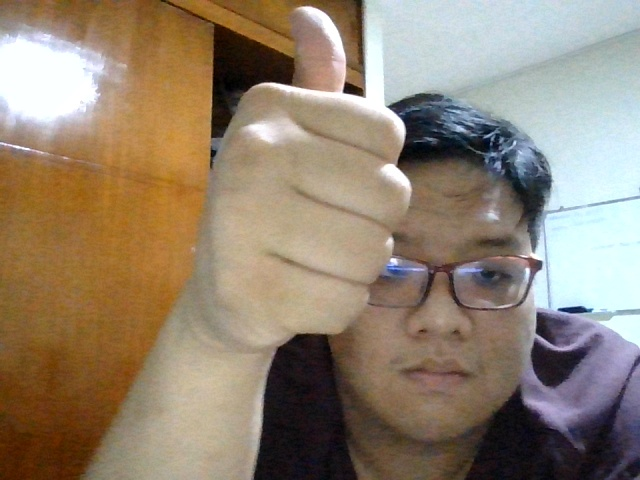si: (205, 6, 414, 346)
